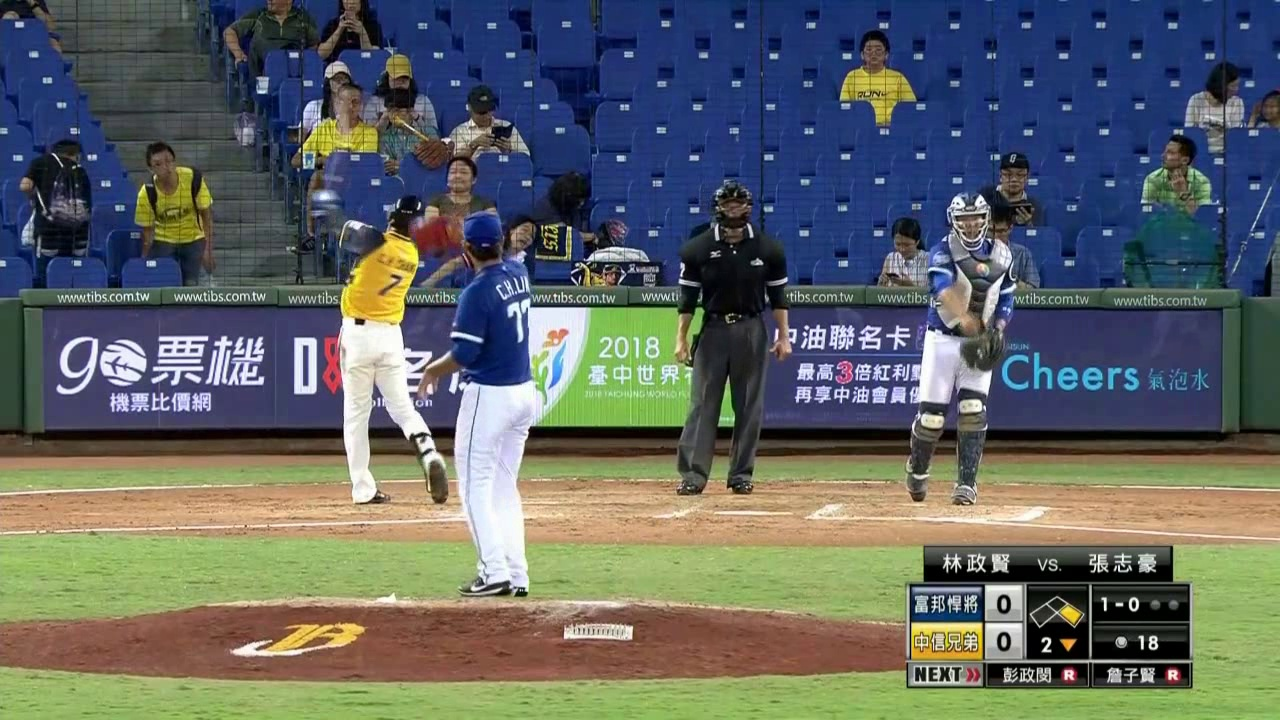base: (1028, 590, 1086, 629)
out: (1143, 588, 1183, 616)
score1: (986, 586, 1023, 621)
score2: (987, 625, 1022, 656)
session: (1029, 631, 1086, 657)
strikeball: (1094, 588, 1142, 621)
total: (1093, 630, 1186, 656)
